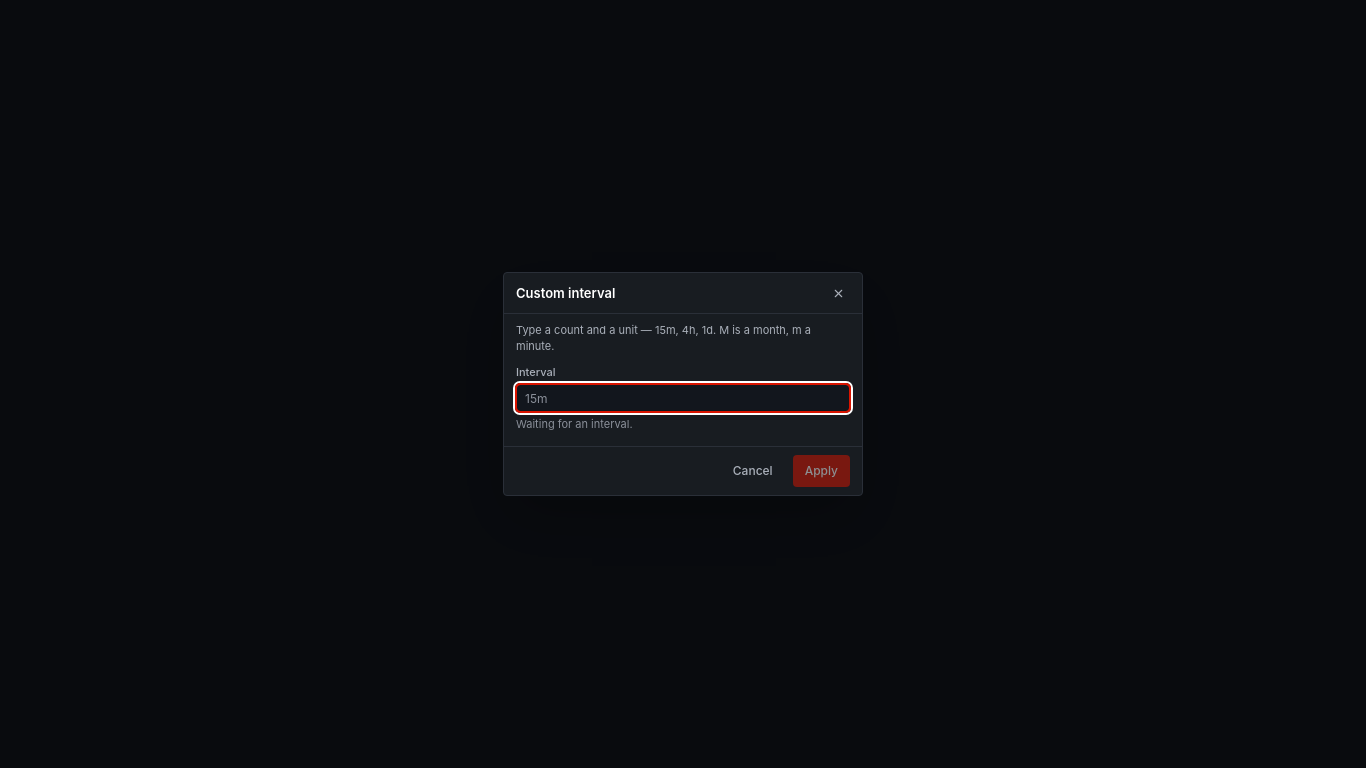
Test: IntervalDialog › offers the nearest neighbour as a one-click fix
The image size is (1366, 768).
In the field labelled "Interval": (683, 398) left=516, top=384, right=850, bottom=412, type "7m"
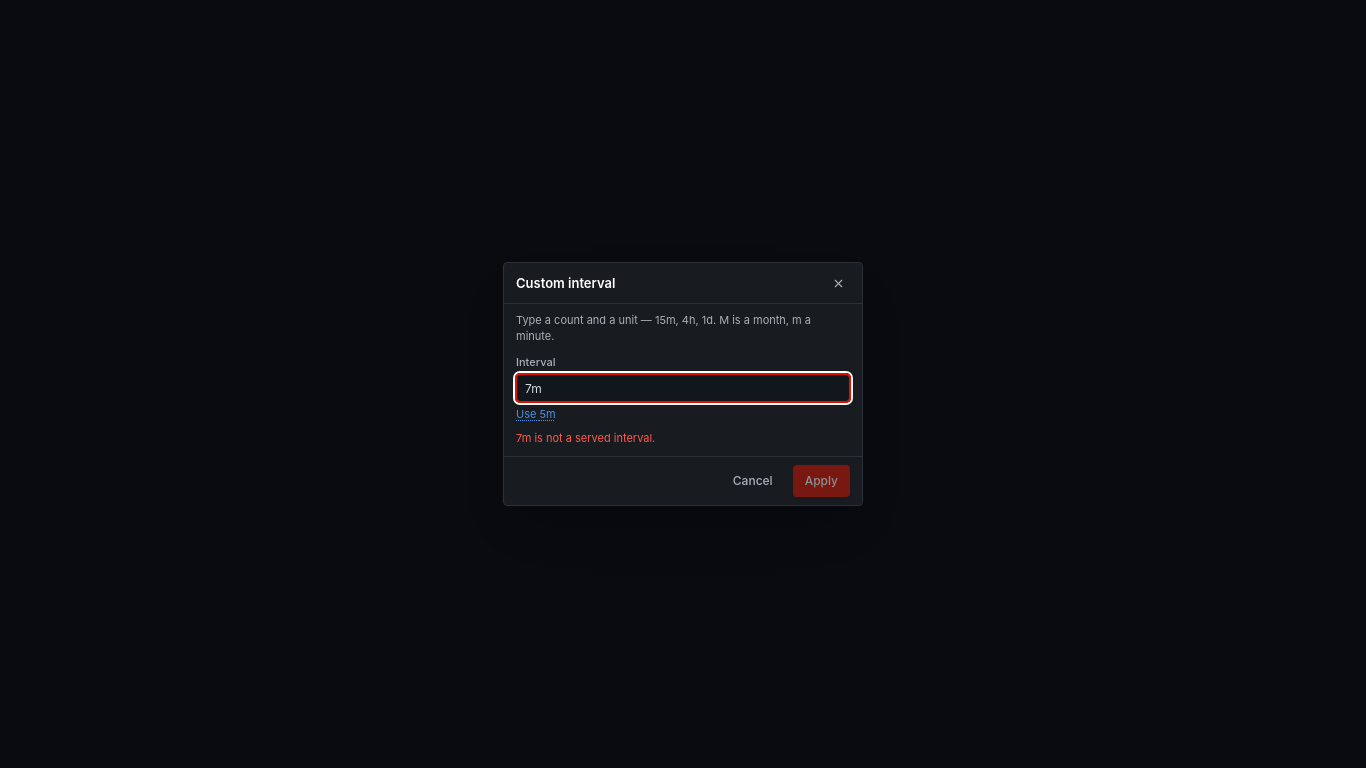
Click the button "Use 5m": (536, 414) left=516, top=406, right=556, bottom=422
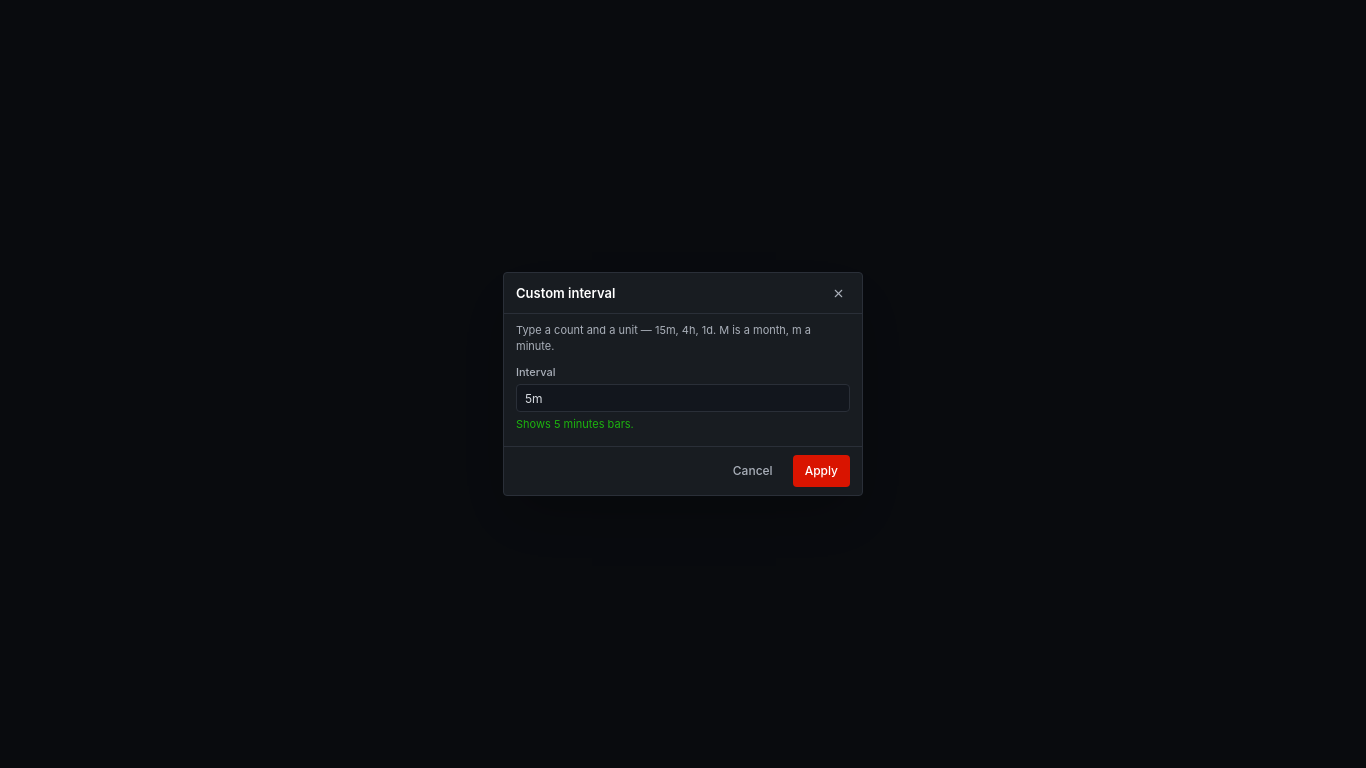
Now the field labelled "Interval" holds "5m", box left=516, top=384, right=850, bottom=412
Now the text "Shows 5 minutes bars." is shown, box left=516, top=417, right=634, bottom=431
